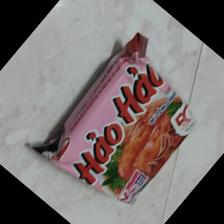Haohao: (30, 32, 198, 205)
